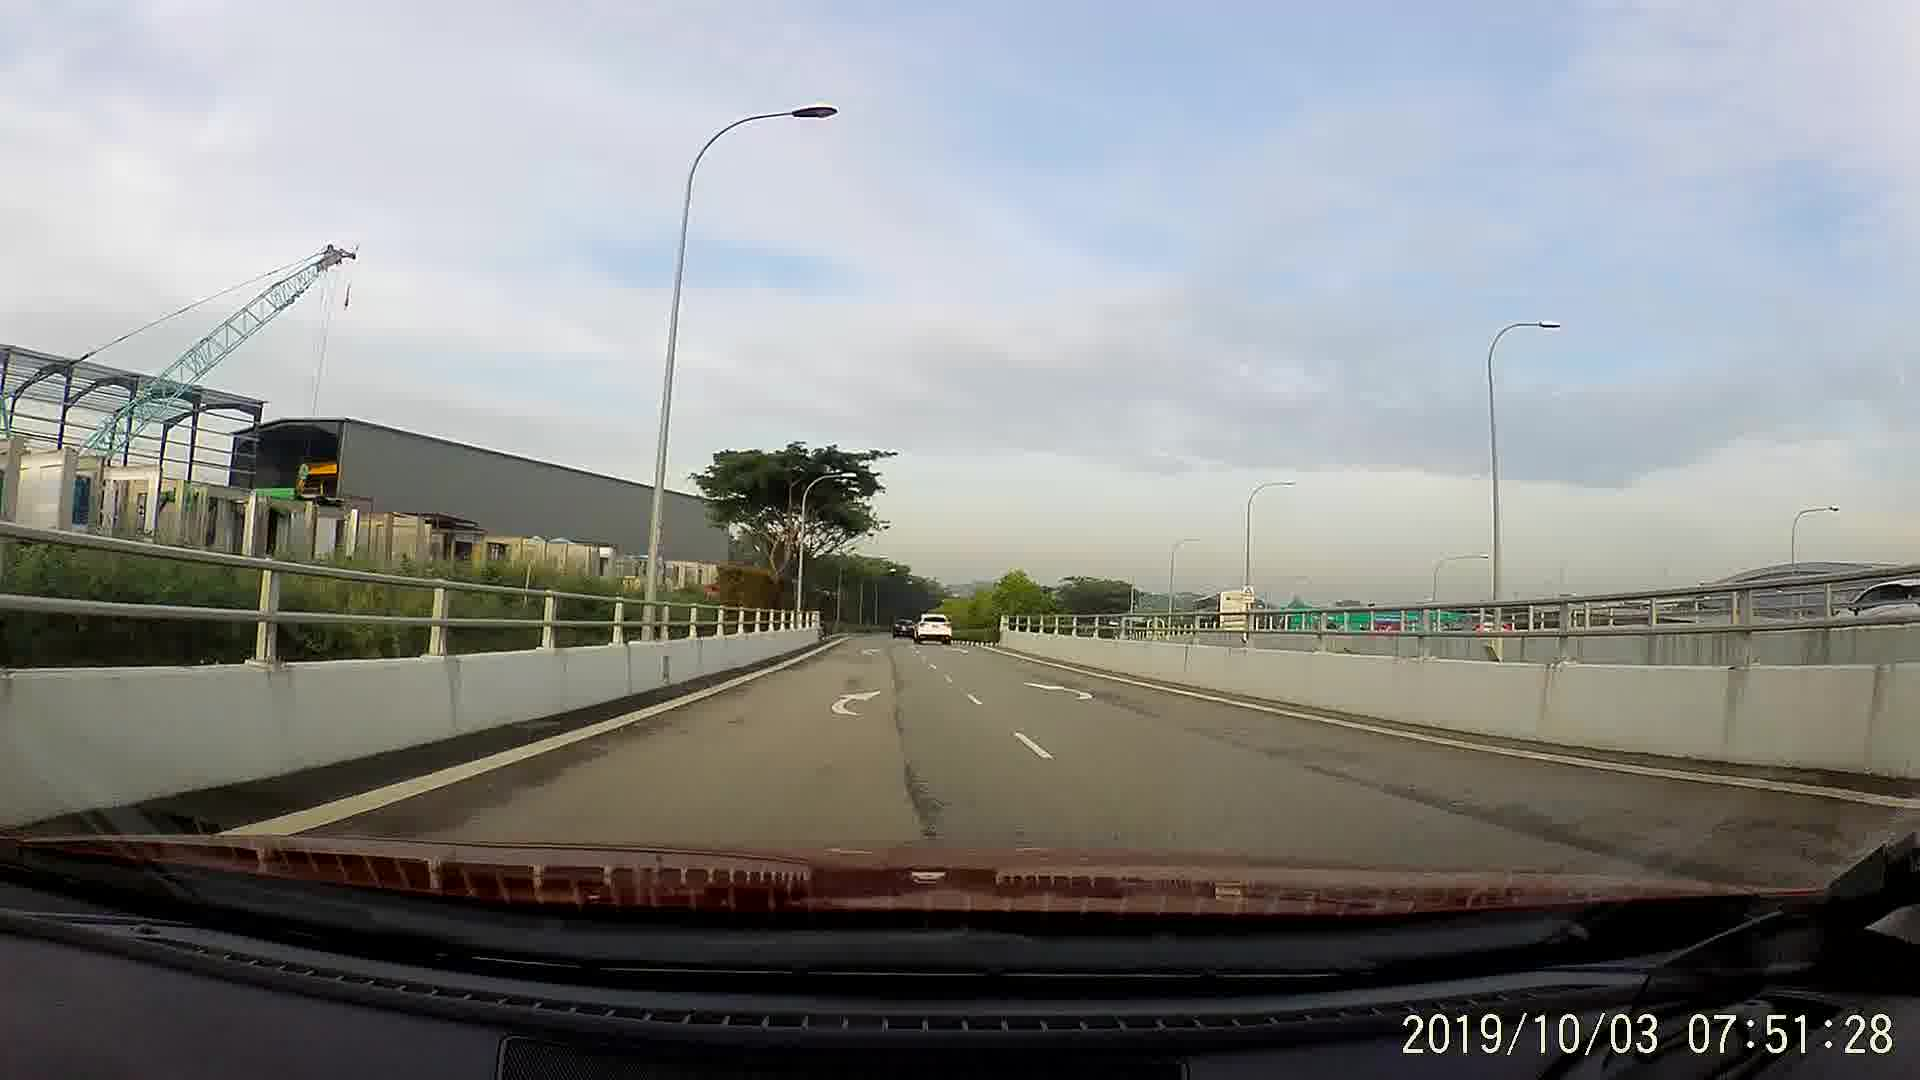bus: (1182, 593, 1247, 634)
car: (913, 613, 957, 647), (891, 615, 915, 636)
